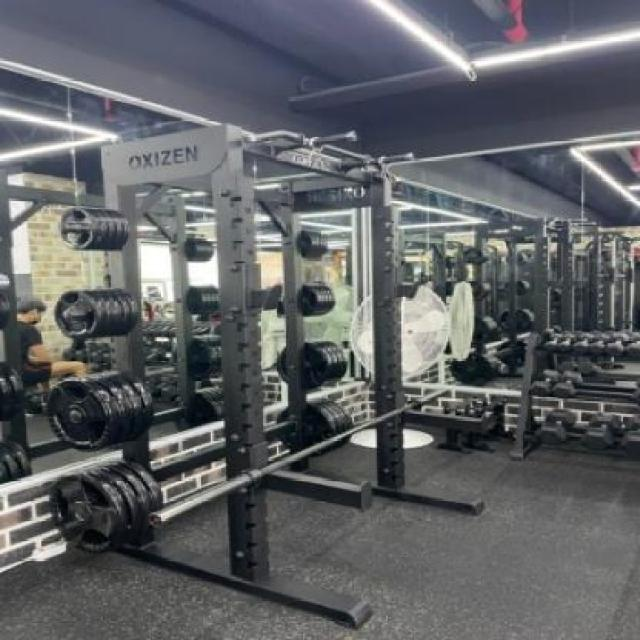smith machine: (92, 125, 488, 626)
